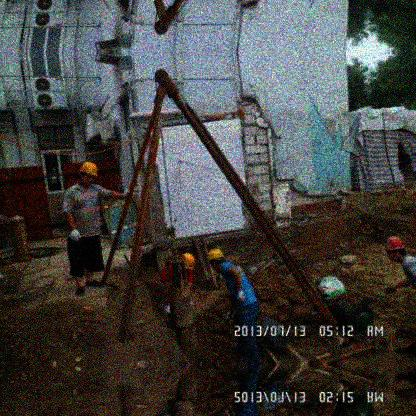helmet: (385, 237, 406, 263), (79, 161, 97, 186), (207, 249, 225, 271)
